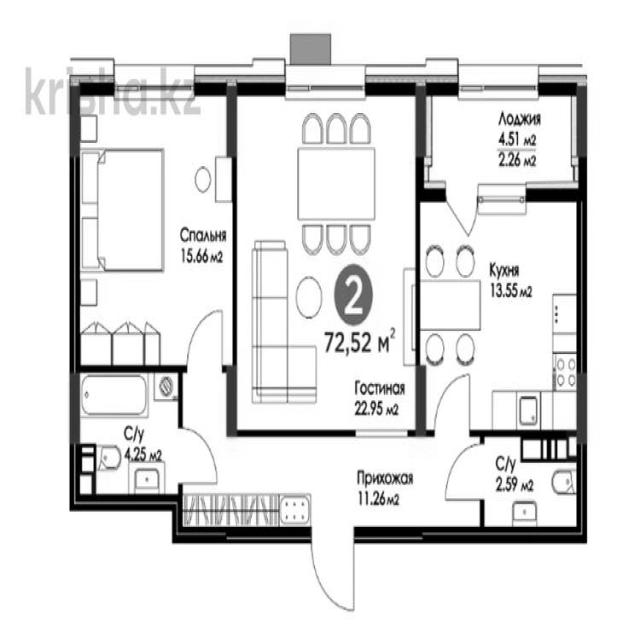balcony: (421, 88, 584, 197)
bathroom: (73, 371, 182, 502), (482, 436, 578, 538)
hallway: (178, 432, 480, 532)
kitchen: (420, 197, 583, 437)
living_room: (234, 86, 421, 428), (69, 84, 234, 367)
